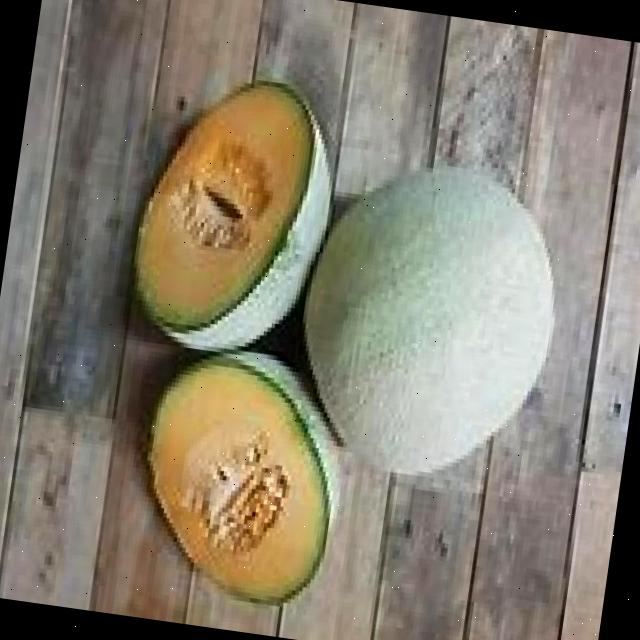Hami Melon: (285, 146, 573, 494), (125, 63, 346, 363), (122, 335, 358, 614)
